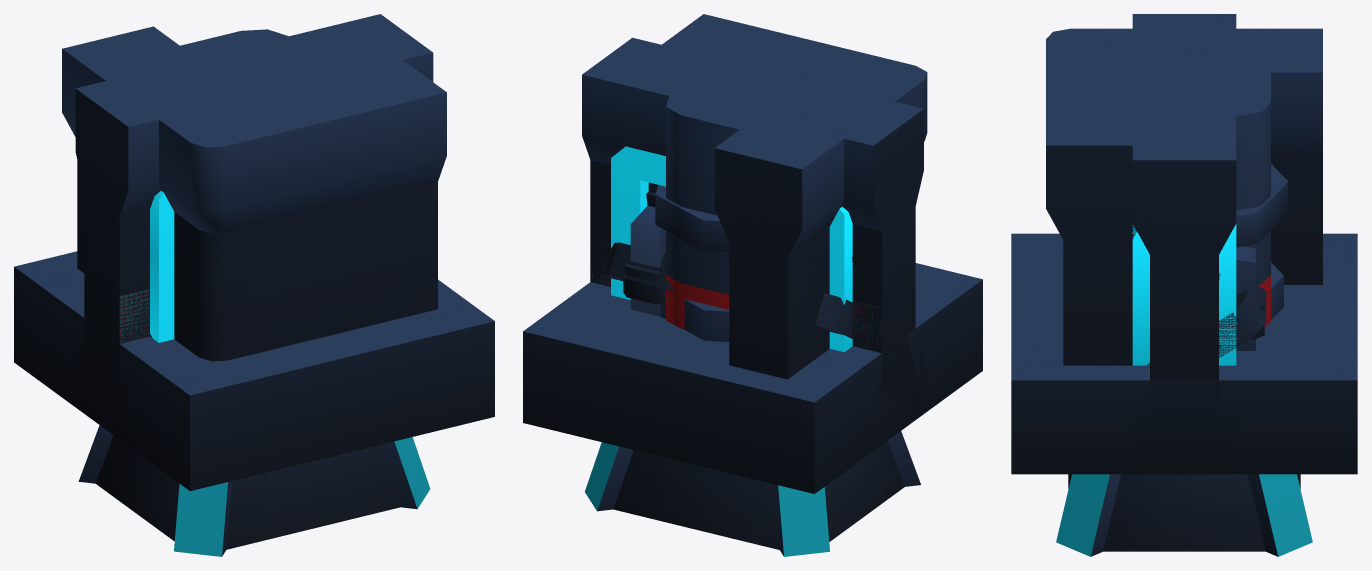
Rendered from display-bay.glb.
3 views of the same model, side by side, from view 1: azimuth 30°, elevation 25°; view 2: azimuth 150°, elevation 25°; view 3: azimuth 270°, elevation 25° (orthographic). The views are drawn at different scales.
Visible parts, largest first — view 1: wall-corner, floor-panel, wall, table-display-small, floor, wall-window, wall-banner, wall-pillar-banner; view 2: floor-panel, wall, wall-corner, table-display-small, wall-pillar-banner, floor, wall-window, computer-screen, container-tall, computer-wide, wall-banner, container; view 3: wall-corner, floor-panel, wall, table-display-small, floor, wall-pillar-banner, wall-banner, wall-window, container-tall, computer-wide, computer-screen, container.
Boxes of the visible parts, bbox=[...] form: wall-corner: bbox=[62, 26, 446, 361]; floor-panel: bbox=[14, 251, 494, 490]; wall: bbox=[75, 14, 433, 445]; table-display-small: bbox=[78, 425, 430, 556]; floor: bbox=[15, 252, 493, 394]; wall-window: bbox=[119, 191, 174, 343]; wall-banner: bbox=[84, 193, 149, 441]; wall-pillar-banner: bbox=[119, 29, 345, 339]; floor-panel: bbox=[523, 263, 982, 493]; wall: bbox=[582, 37, 923, 435]; wall-corner: bbox=[653, 14, 927, 379]; table-display-small: bbox=[585, 431, 920, 556]; wall-pillar-banner: bbox=[590, 52, 881, 349]; floor: bbox=[524, 263, 981, 401]; wall-window: bbox=[590, 146, 881, 352]; computer-screen: bbox=[623, 191, 852, 316]; container-tall: bbox=[655, 185, 729, 332]; computer-wide: bbox=[603, 242, 852, 338]; wall-banner: bbox=[590, 182, 922, 412]; container: bbox=[660, 289, 729, 341]; wall-corner: bbox=[1046, 28, 1322, 365]; floor-panel: bbox=[1011, 233, 1357, 474]; wall: bbox=[1132, 14, 1236, 474]; table-display-small: bbox=[1056, 474, 1312, 556]; floor: bbox=[1011, 233, 1357, 380]; wall-pillar-banner: bbox=[1098, 58, 1270, 327]; wall-banner: bbox=[1134, 162, 1218, 407]; wall-window: bbox=[1132, 224, 1236, 365]; container-tall: bbox=[1236, 164, 1288, 330]; computer-wide: bbox=[1146, 283, 1266, 365]; computer-screen: bbox=[1219, 246, 1264, 350]; container: bbox=[1271, 262, 1283, 319].
Bounding box in the file's own units: 1 × 1.3 × 1.
Materials: 4 (4 with a texture image).
